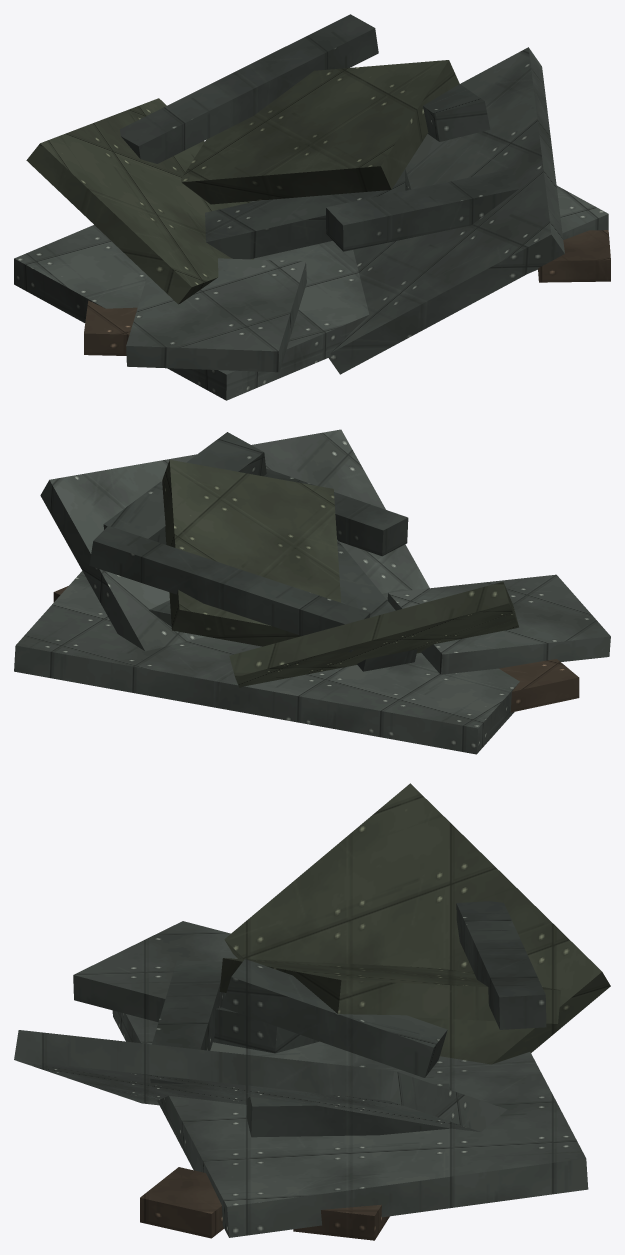
Rendered from floor_debris.glb.
3 renders of one model, top to bottom at view 1: azimuth 30°, elevation 25°; view 2: azimuth 150°, elevation 25°; view 3: azimuth 270°, elevation 25°, orthographic. The views are drawn at different scales.
Parts seen in each view (by area): view 1: floor_debris; view 2: floor_debris; view 3: floor_debris.
Boxes of the visible parts, bbox=[...] form: floor_debris: bbox=[14, 14, 610, 400]; floor_debris: bbox=[14, 429, 610, 754]; floor_debris: bbox=[14, 783, 610, 1240].
Size of the model in its own units: 0.9 by 0.3423 by 0.7955.
Materials: 1 (1 with a texture image).
